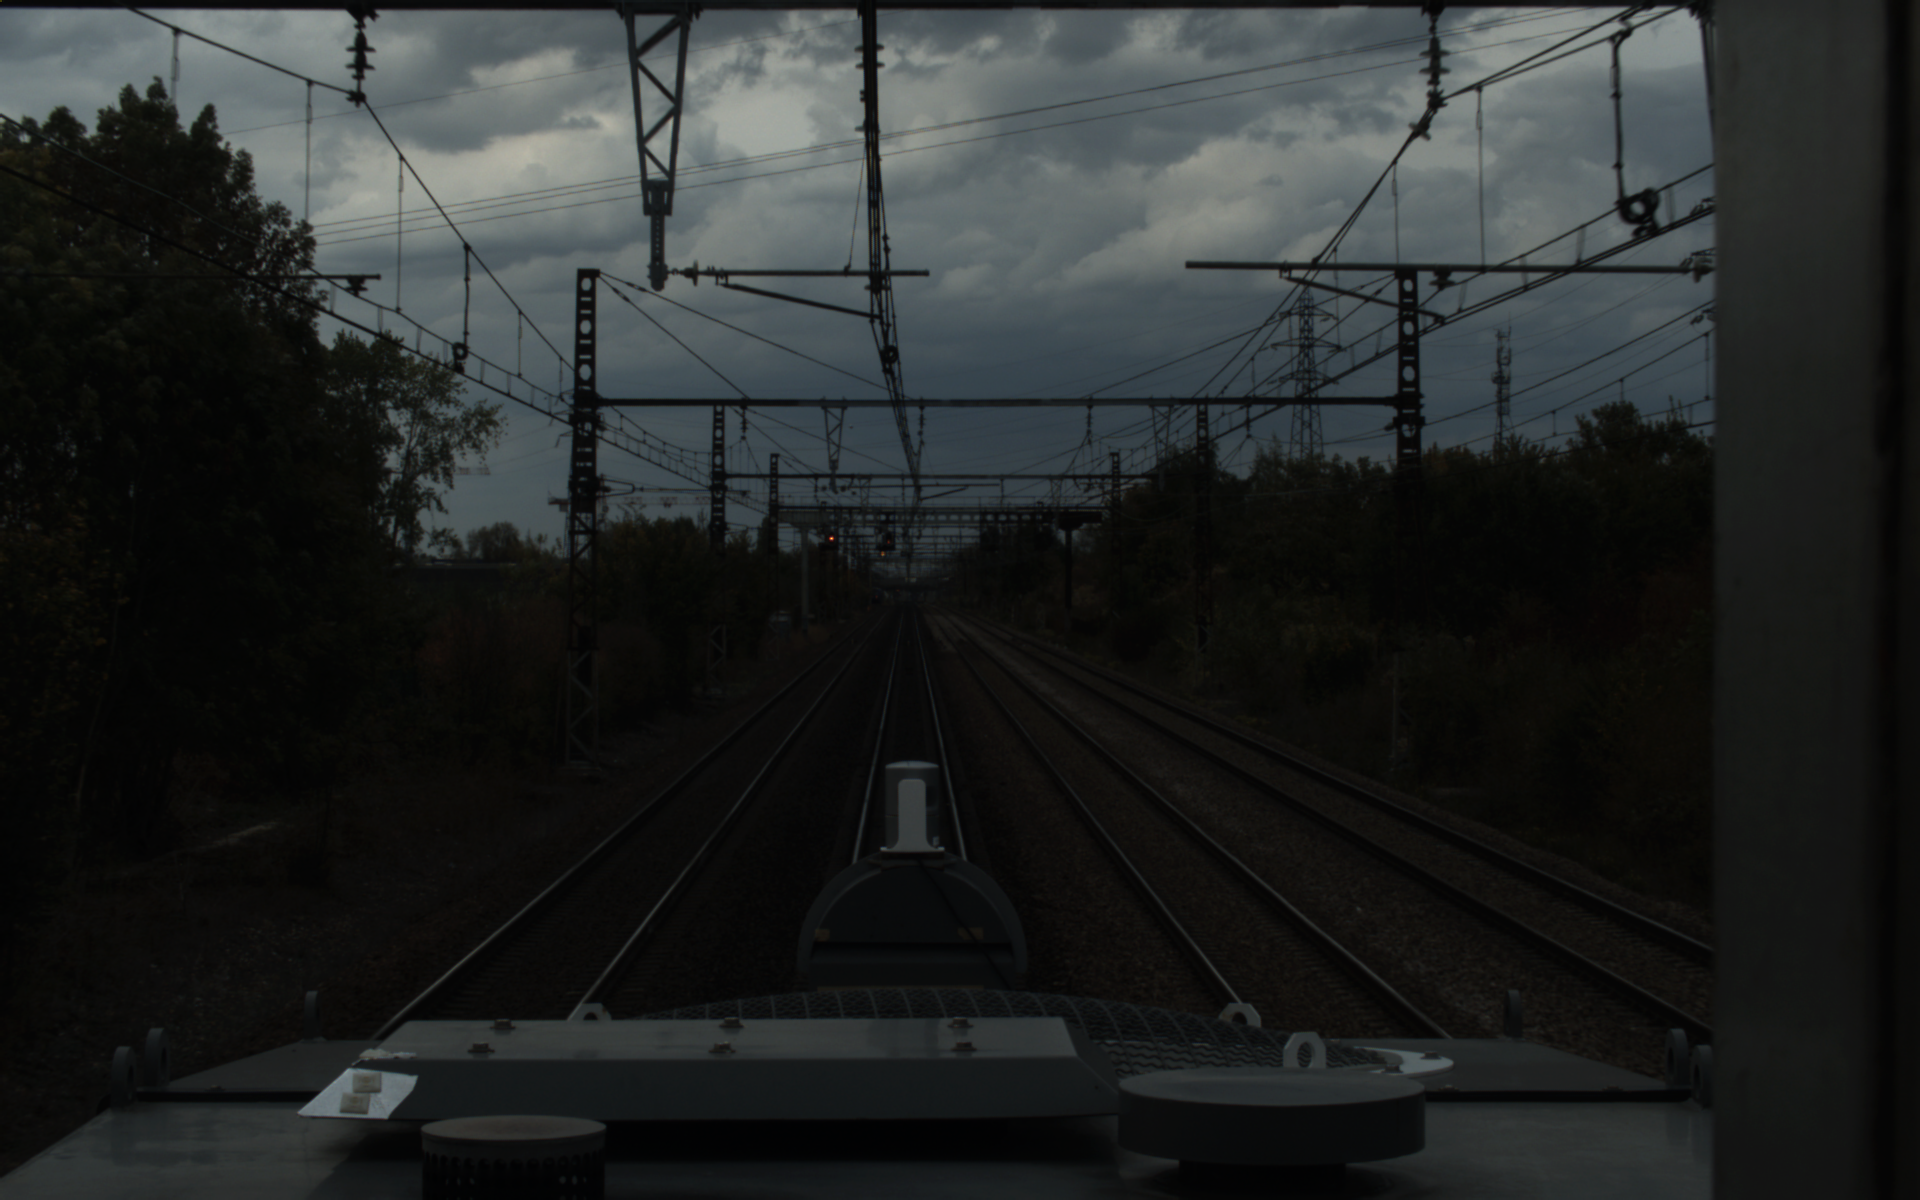Blinking: (882, 529, 894, 547)
Fixed: (824, 529, 838, 547)
